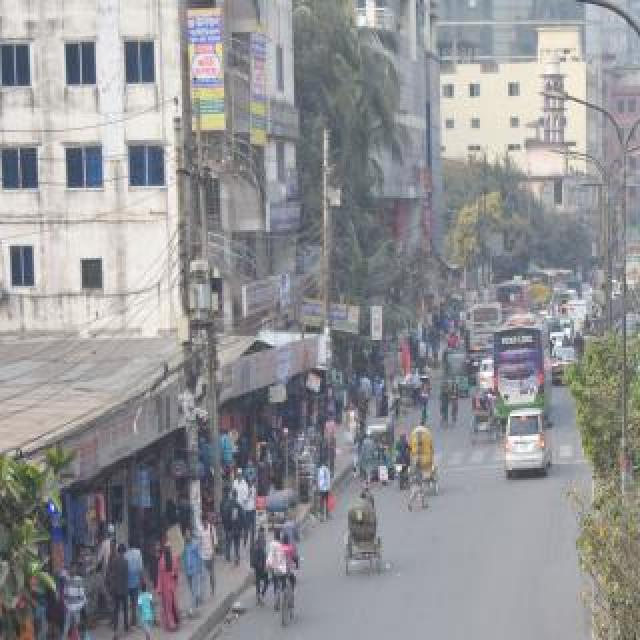bus: (494, 311, 552, 421), (468, 300, 502, 350), (498, 279, 532, 317), (528, 269, 558, 305), (624, 252, 640, 284)
car: (551, 345, 579, 383), (466, 350, 490, 382), (476, 357, 494, 391)
motorbike: (393, 428, 411, 492), (573, 331, 585, 359), (561, 334, 571, 348)
van: (504, 407, 554, 477), (567, 300, 591, 326), (566, 281, 582, 299)
